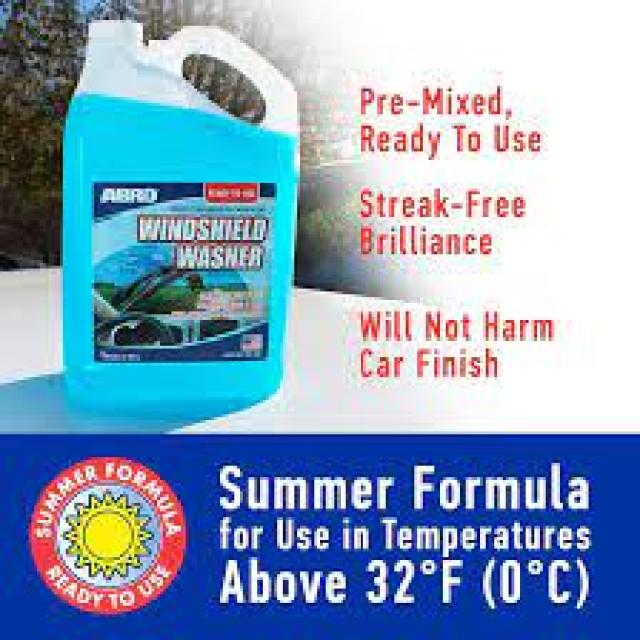winwinshield_washer: (54, 13, 298, 419)
